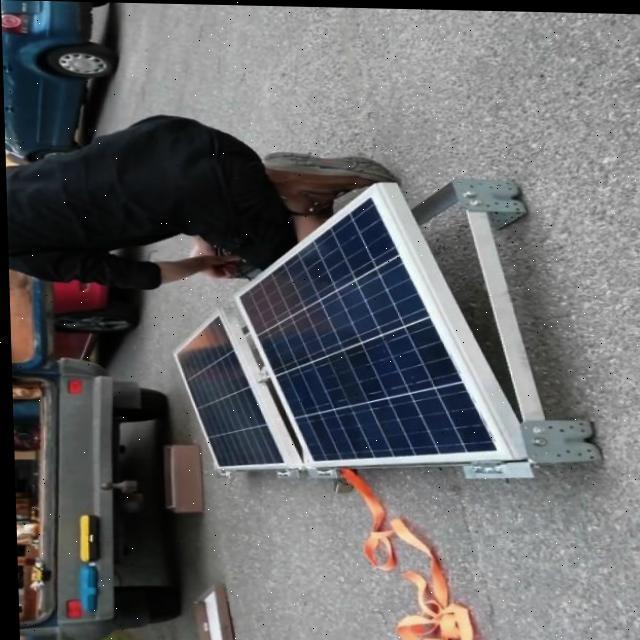Normal Solar Panel: (232, 181, 507, 466), (172, 308, 286, 471)
